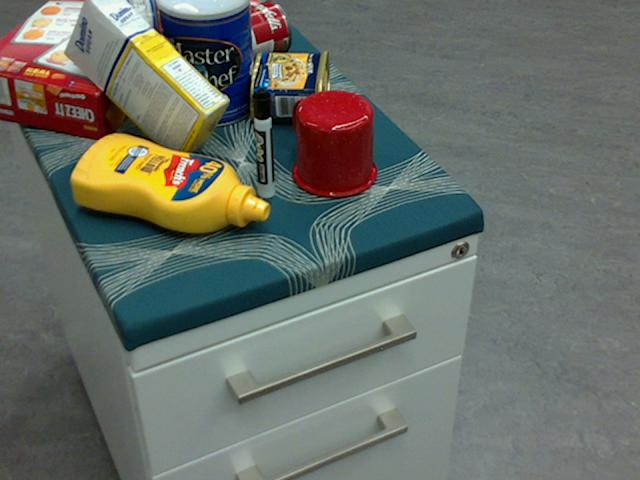cracker_box: (0, 0, 182, 141)
gelatin_box: (191, 0, 265, 40)
large_marker: (252, 88, 273, 196)
master_chef_can: (156, 0, 254, 127)
mug: (289, 89, 375, 197)
mustard_bottle: (70, 134, 269, 232)
potted_meat_can: (250, 49, 328, 125)
sugar_box: (65, 0, 231, 164)
tomato_soup_can: (195, 0, 291, 73)
tuna_fish_can: (111, 0, 157, 62)
